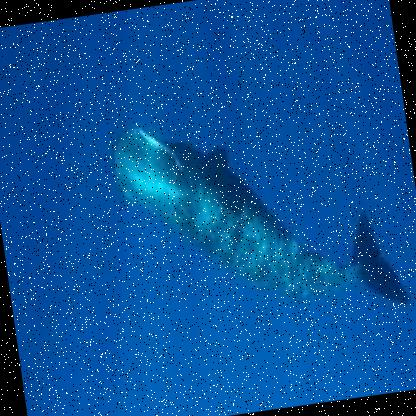sperm_whale: (95, 67, 415, 365)
